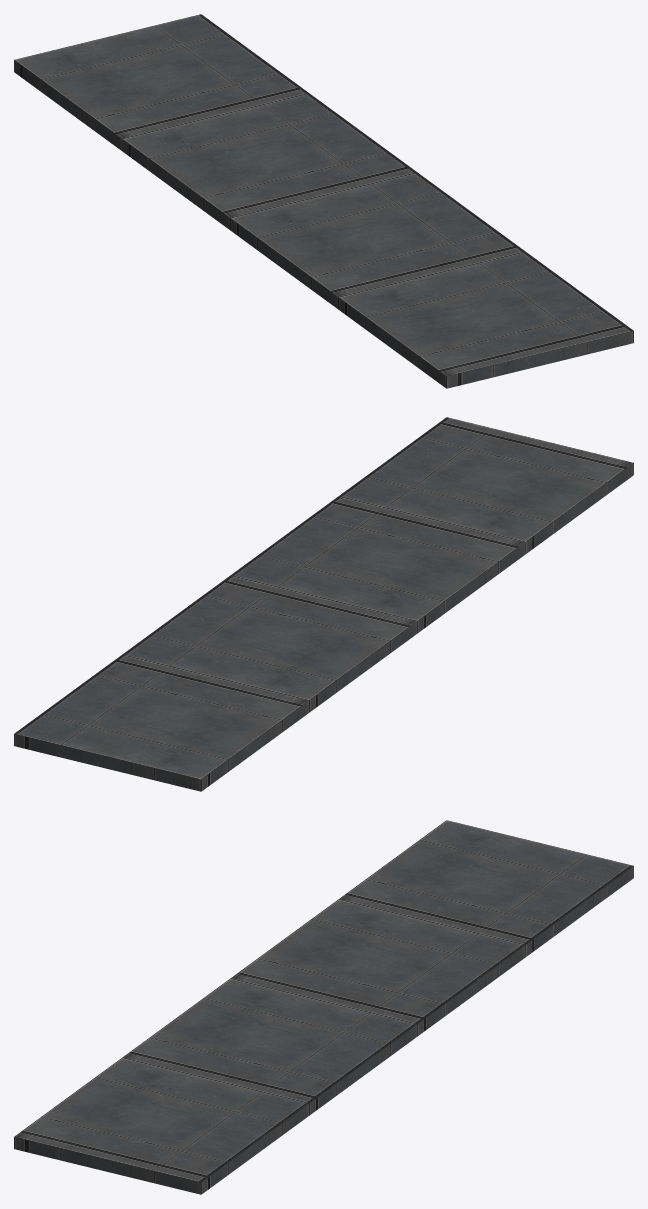
Rendered from Neon_Floor_8x32A.FBX.
3 renders of one model, top to bottom at view 1: azimuth 30°, elevation 25°; view 2: azimuth 150°, elevation 25°; view 3: azimuth 330°, elevation 25°, orthographic.
Visible parts, largest first — view 1: Neon_Floor_8x32A; view 2: Neon_Floor_8x32A; view 3: Neon_Floor_8x32A.
Boxes of the visible parts, x1=… form: Neon_Floor_8x32A: x1=14, y1=14, x2=633, y2=388; Neon_Floor_8x32A: x1=14, y1=417, x2=633, y2=791; Neon_Floor_8x32A: x1=14, y1=820, x2=633, y2=1194.
Bounding box in the file's own units: 8 × 0.5 × 32.
